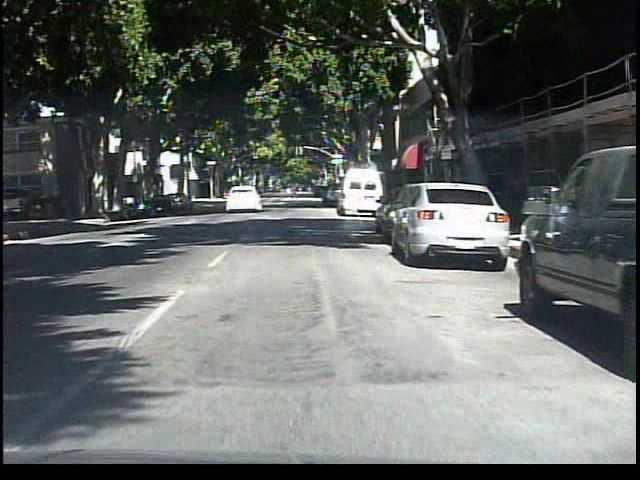person: (287, 174, 303, 205)
